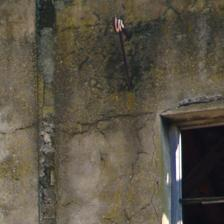Crack: (39, 85, 113, 139), (72, 44, 114, 60)
